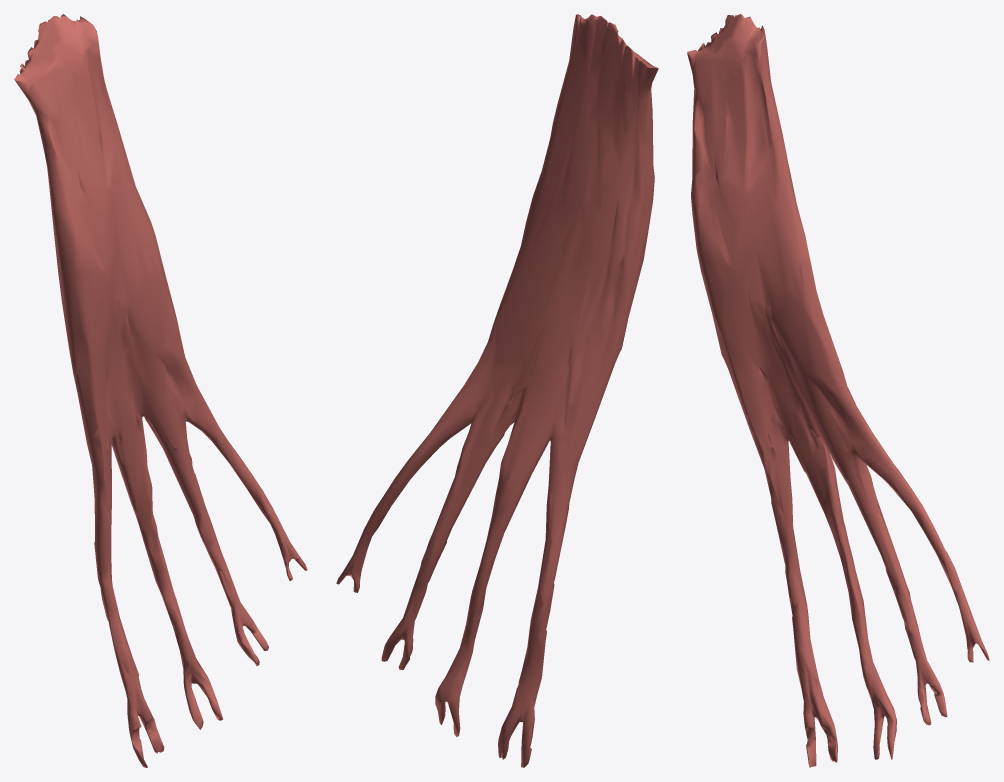
The picture shows the model from 3 angles, left to right: view 1: azimuth 30°, elevation 25°; view 2: azimuth 150°, elevation 25°; view 3: azimuth 330°, elevation 25°; orthographic projection. The views are drawn at different scales.
Parts seen in each view (by area): view 1: 左侧趾短屈肌; view 2: 左侧趾短屈肌; view 3: 左侧趾短屈肌.
Part boxes in pixels (x1,y1,x2,y2): 左侧趾短屈肌: (14,14,307,767); 左侧趾短屈肌: (336,14,658,767); 左侧趾短屈肌: (687,14,989,767).
Bounding box in the file's own units: 0.1156 × 0.277 × 0.0295.
